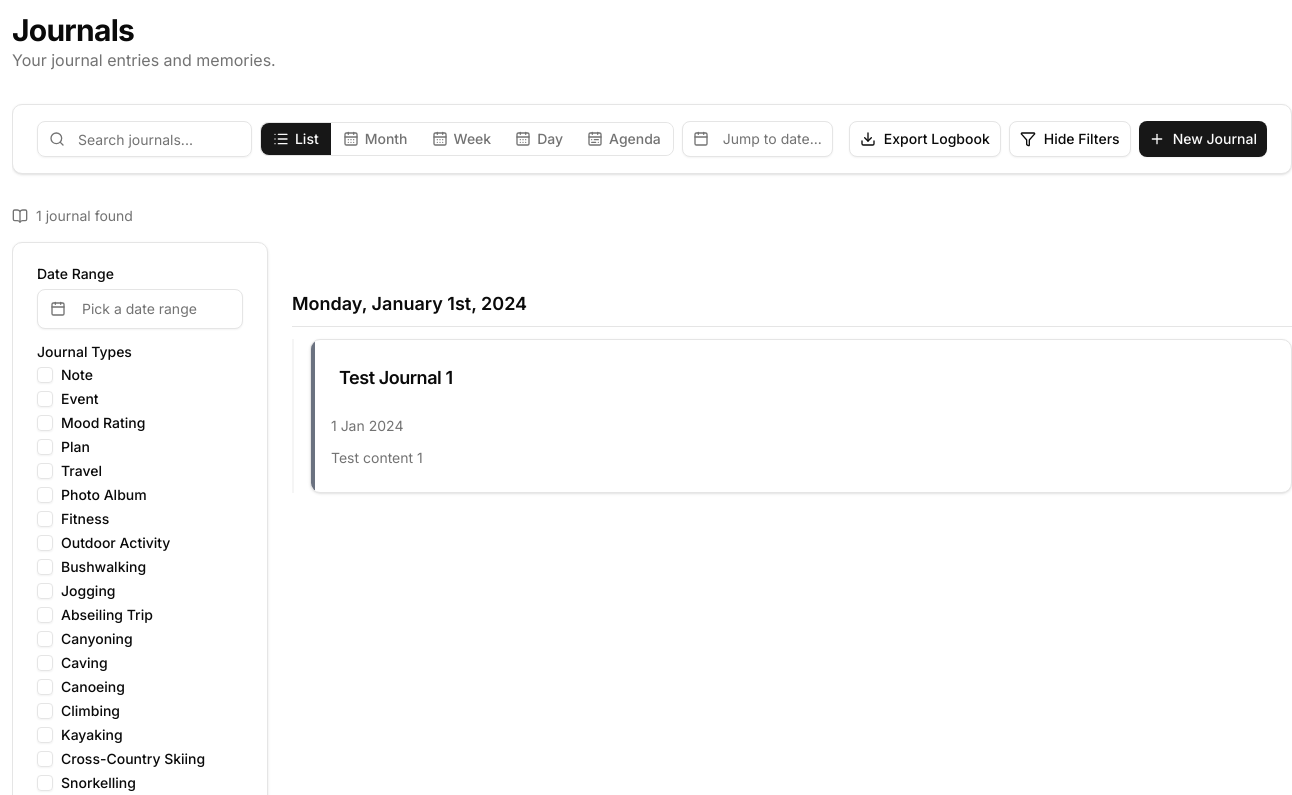
JournalsPage › tag deep link (/journals?tag=<id>) › does not leave a phantom key for any cleared filter
The width and height of the screenshot is (1292, 795).
Note: Journal types clear to `undefined` the same way tags do.
Click the checkbox named "Note" next to "Note" at x=45, y=375, box [37,367,53,383]
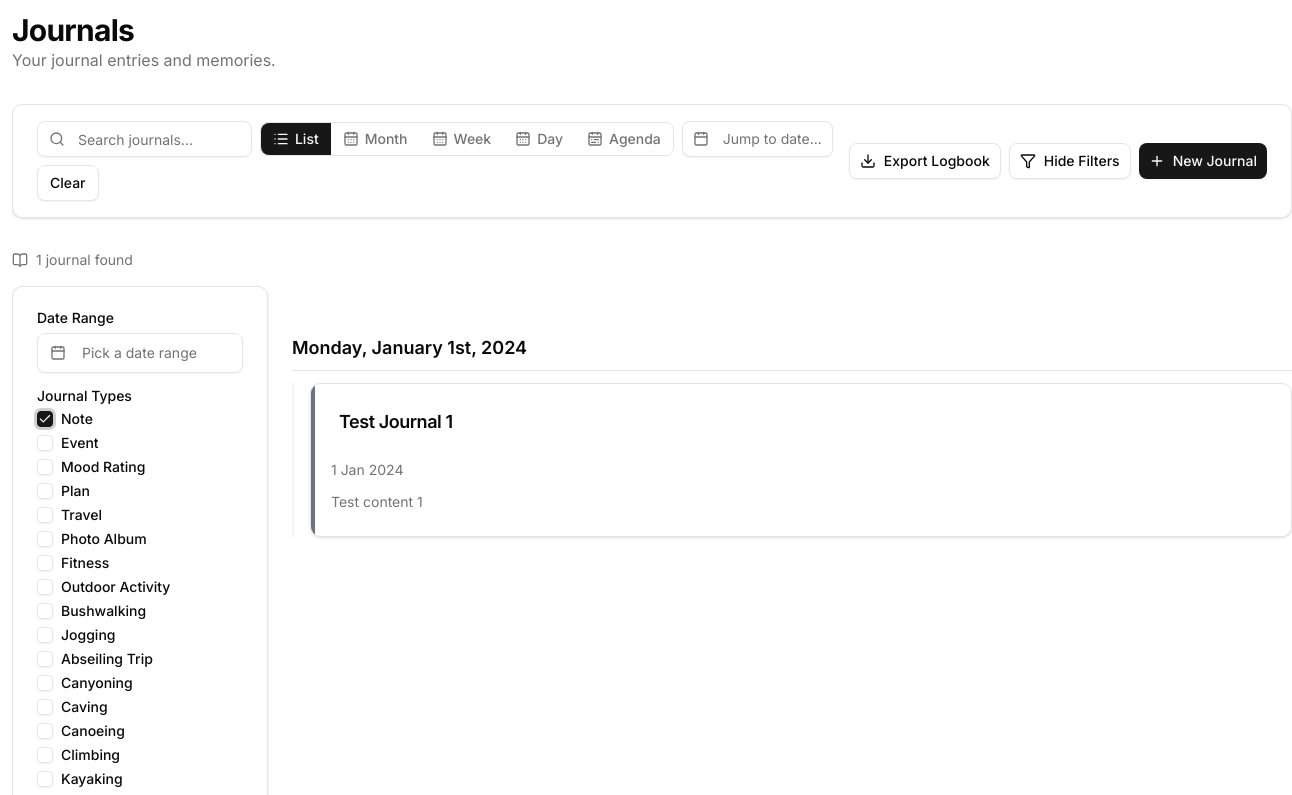
Click the checkbox named "Note" next to "Note" at x=45, y=419, box [37,411,53,427]
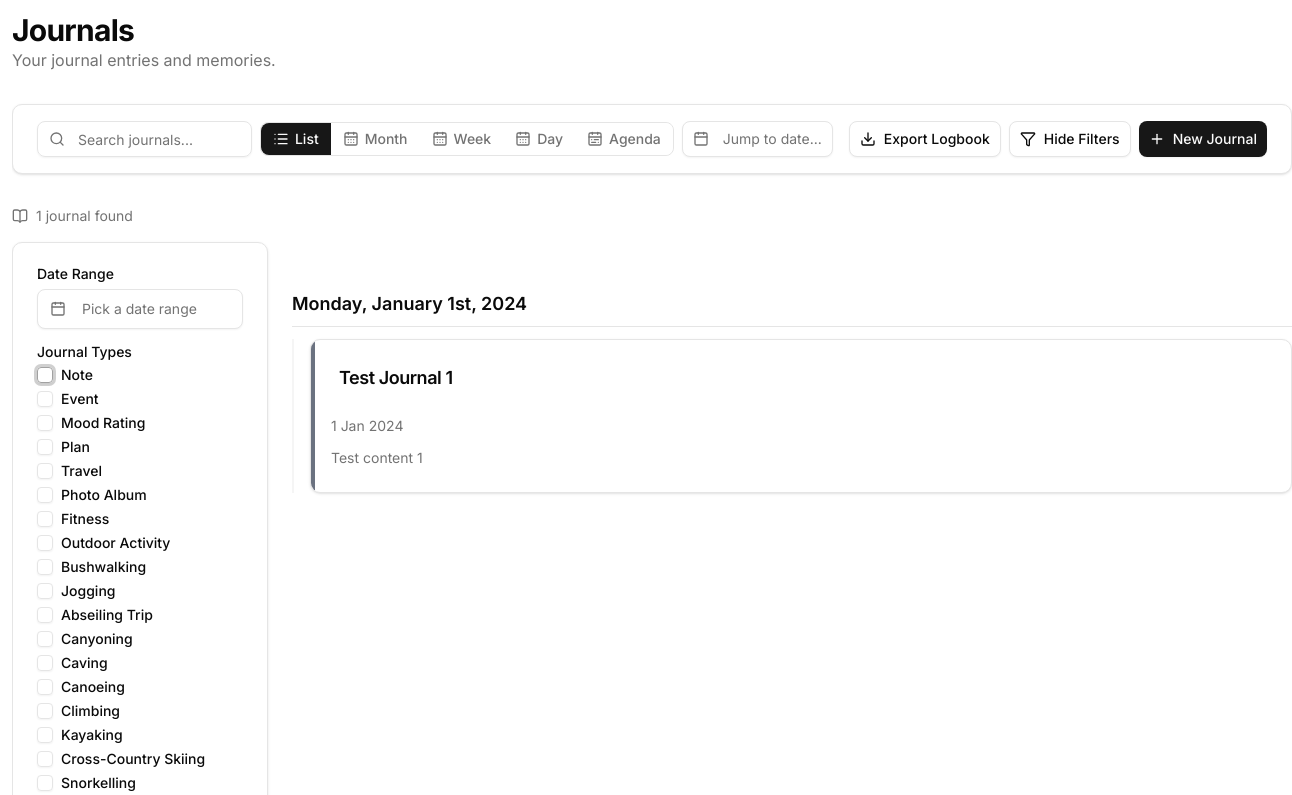
Expected: the button with test id "clear-filters" is gone
